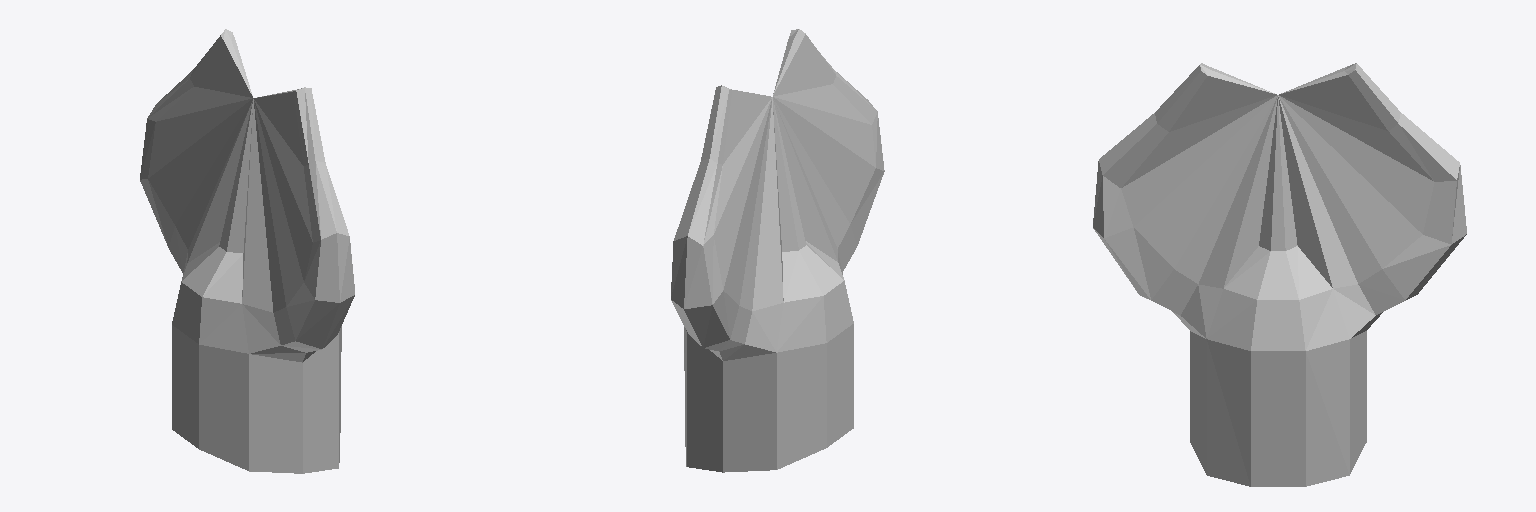
File: helm_collider2.obj
3 views of the same model, side by side, from view 1: azimuth 30°, elevation 25°; view 2: azimuth 150°, elevation 25°; view 3: azimuth 270°, elevation 25° (orthographic).
Visible parts, largest first — view 1: Cylinder.020_Cylinder.022; view 2: Cylinder.020_Cylinder.022; view 3: Cylinder.020_Cylinder.022.
Boxes of the visible parts, x1,y1,x2,y2 form: Cylinder.020_Cylinder.022: [140, 29, 354, 473]; Cylinder.020_Cylinder.022: [671, 29, 884, 472]; Cylinder.020_Cylinder.022: [1093, 63, 1466, 486].
Bounding box in the file's own units: 0.1864 × 0.4907 × 0.423.